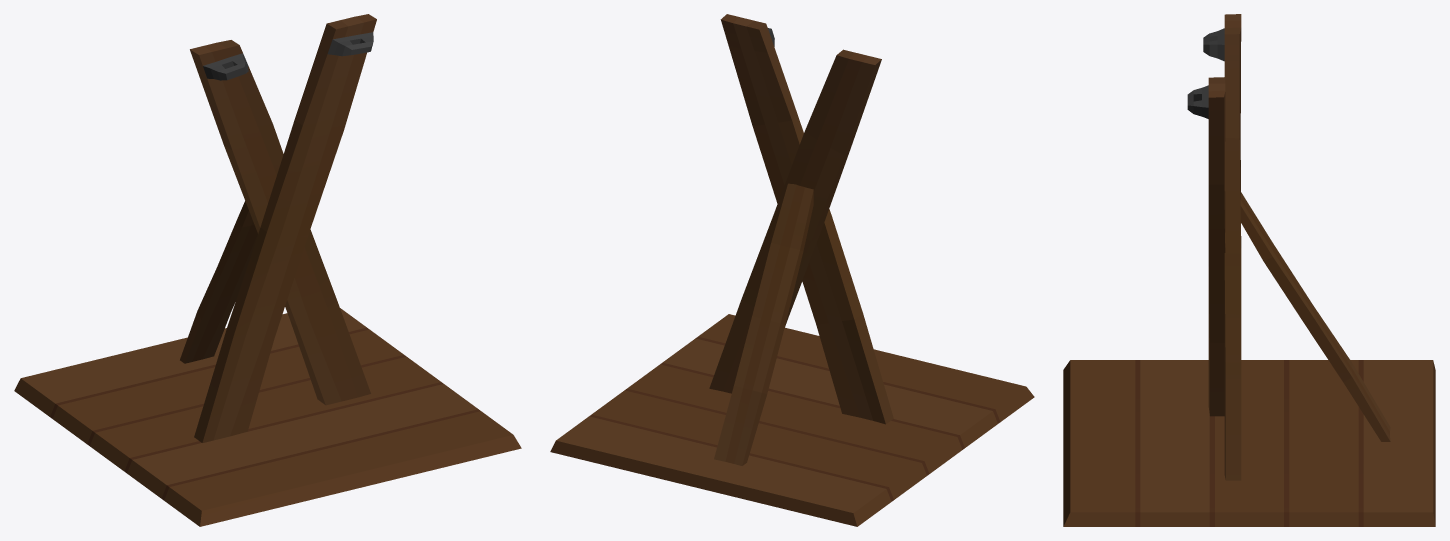
Rendered from Cross.fbx.
3 views of the same model, side by side, from view 1: azimuth 30°, elevation 25°; view 2: azimuth 150°, elevation 25°; view 3: azimuth 270°, elevation 25° (orthographic). The views are drawn at different scales.
Visible parts, largest first — view 1: Cross; view 2: Cross; view 3: Cross.
Part boxes in pixels (<box>): Cross: <box>14,14,521,526</box>; Cross: <box>550,14,1034,526</box>; Cross: <box>1063,14,1435,526</box>.
Bounding box in the file's own units: 200 × 234 × 200.
